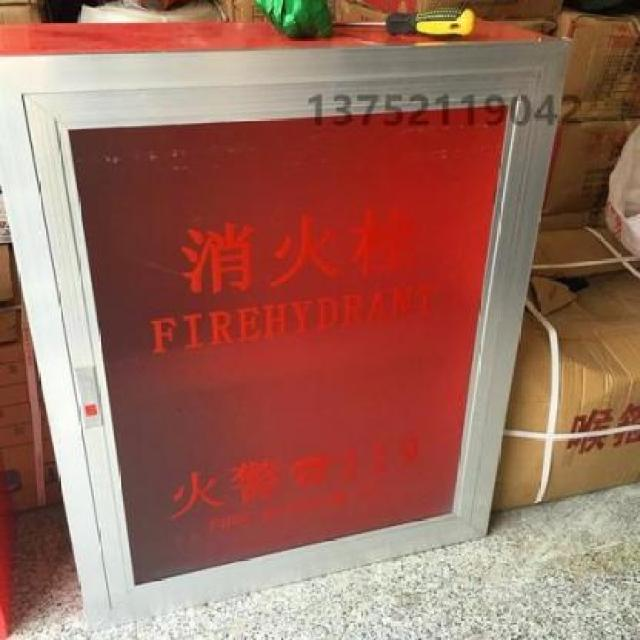firehydrant: (0, 8, 578, 637)
